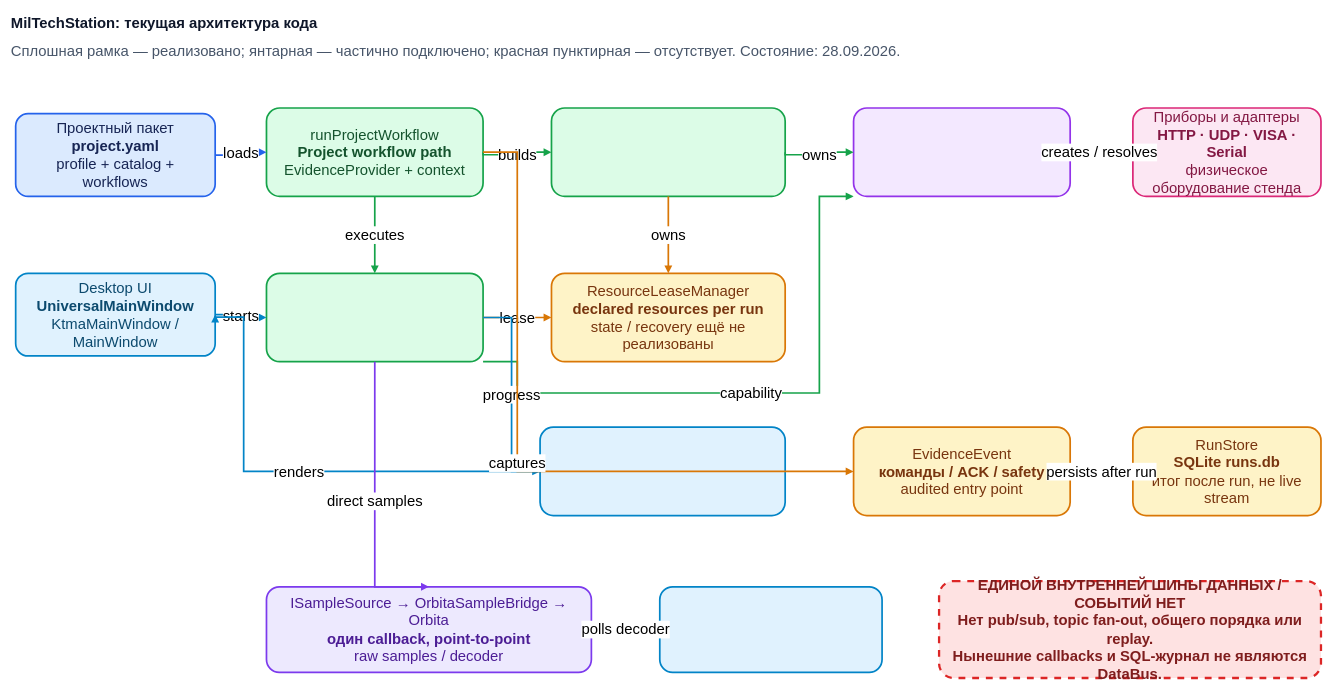
This 1332x693 diagram has some shape labels left out. Each missing label, with the box of its shape:
EquipmentRegistry capability lookup plugin / adapter instance: (852, 107, 1071, 197)
MainWindow UI опрос decoder каждые 100 ms: (659, 586, 883, 673)
RunEvent один progress callback UI получает через queued invoke: (539, 426, 786, 516)
ScenarioEngine процедуры / сценарии RunEvent + ScenarioRunResult: (265, 272, 484, 362)
StationSession собирает runtime EquipmentRegistry + ComponentRuntime: (550, 107, 786, 197)
